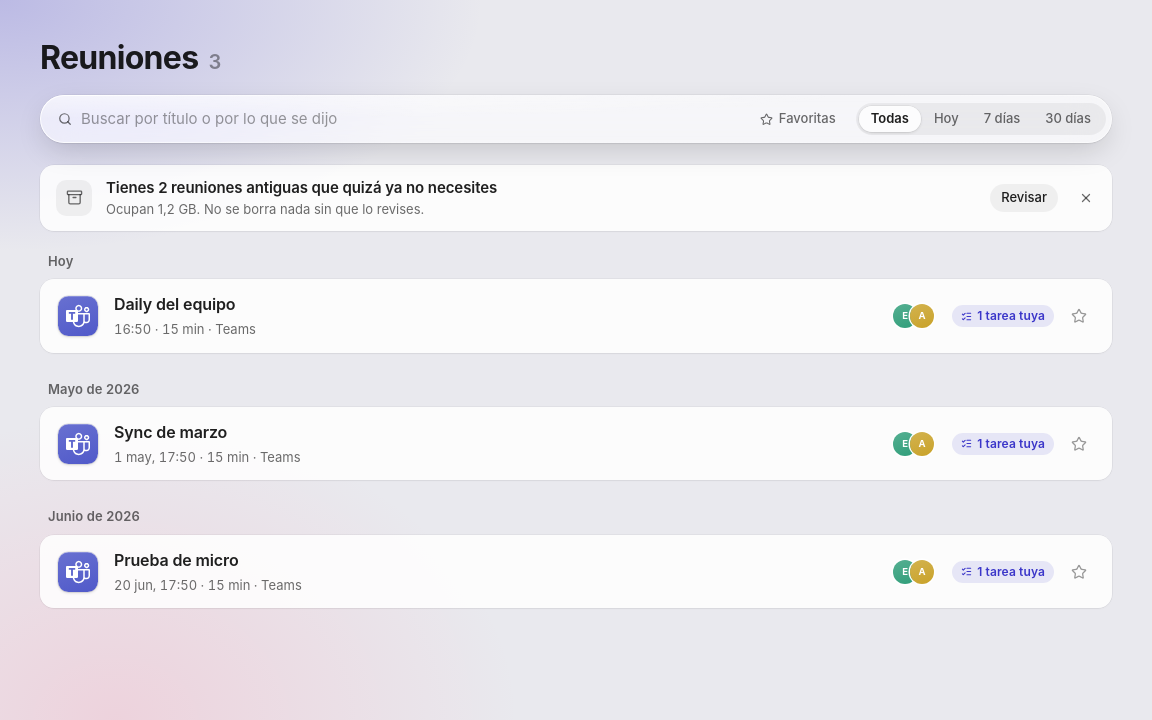
Test: sugerencia de limpieza de reuniones antiguas › sin nada seleccionado no se puede borrar
Click the button "Revisar": [1024, 198] box [990,184,1058,212]
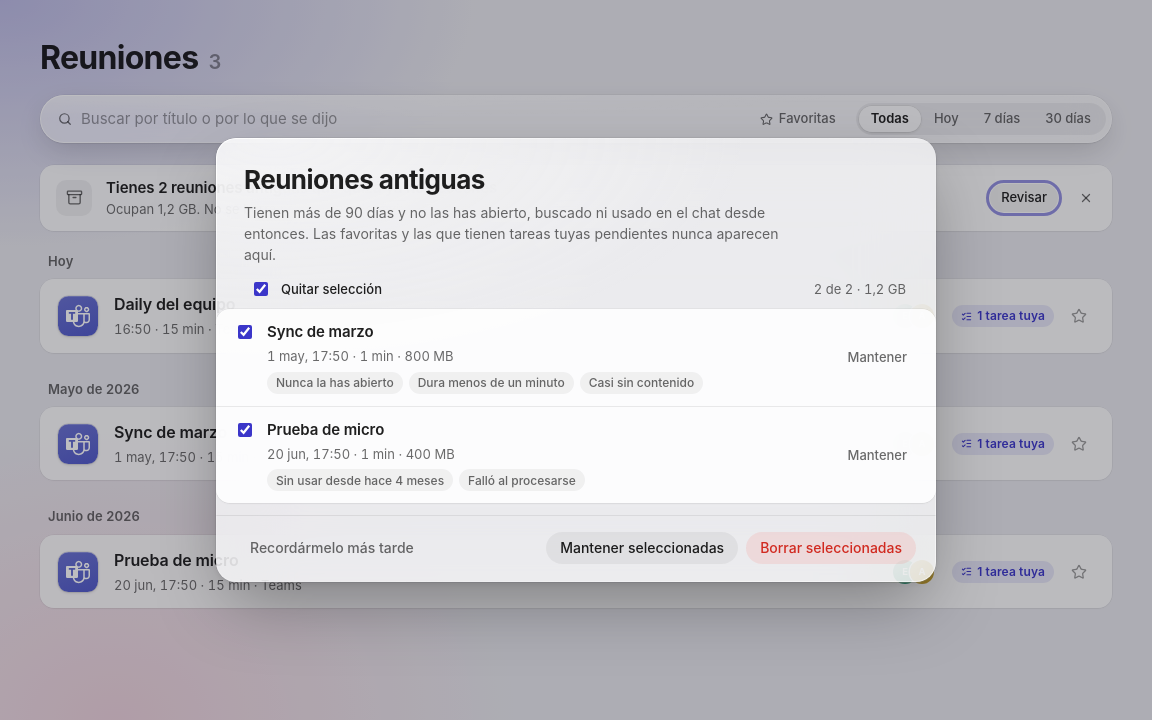
Click the checkbox labelled "Quitar selección": [261, 289] box [254,282,268,296]
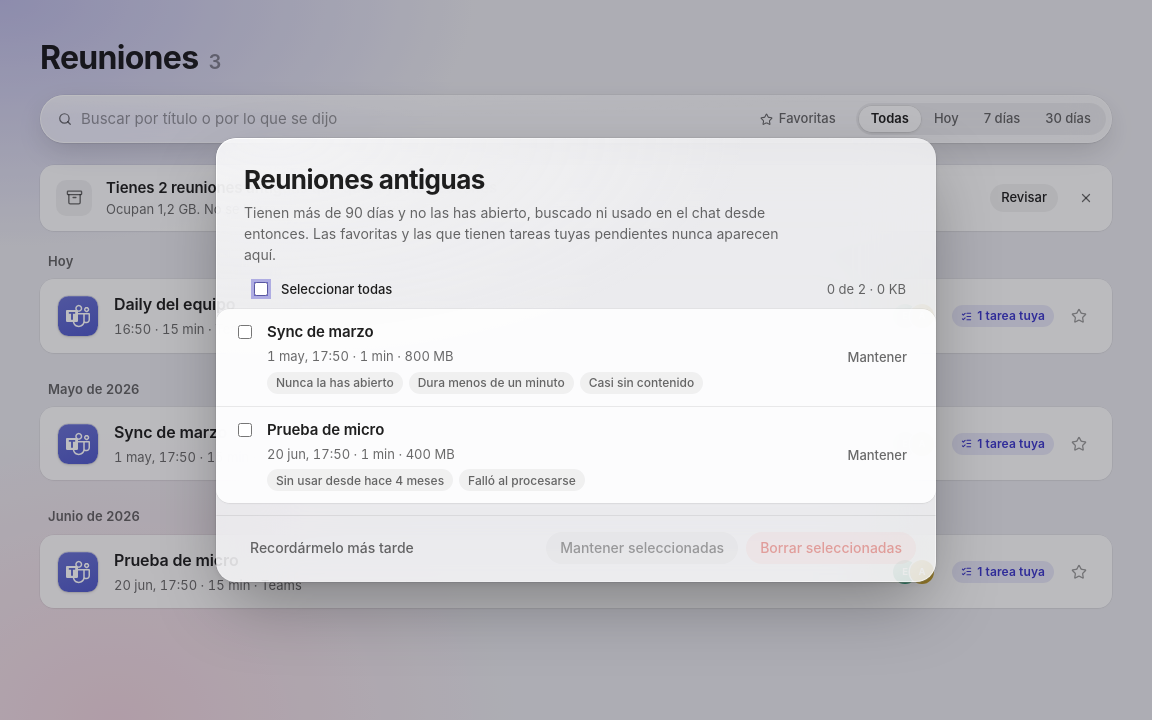
Check: the button "Borrar seleccionadas" is disabled, box [746,532,916,564]
Check: the button "Mantener seleccionadas" is disabled, box [546,532,738,564]
Click the checkbox labelled "Seleccionar todas": [261, 289] box [254,282,268,296]
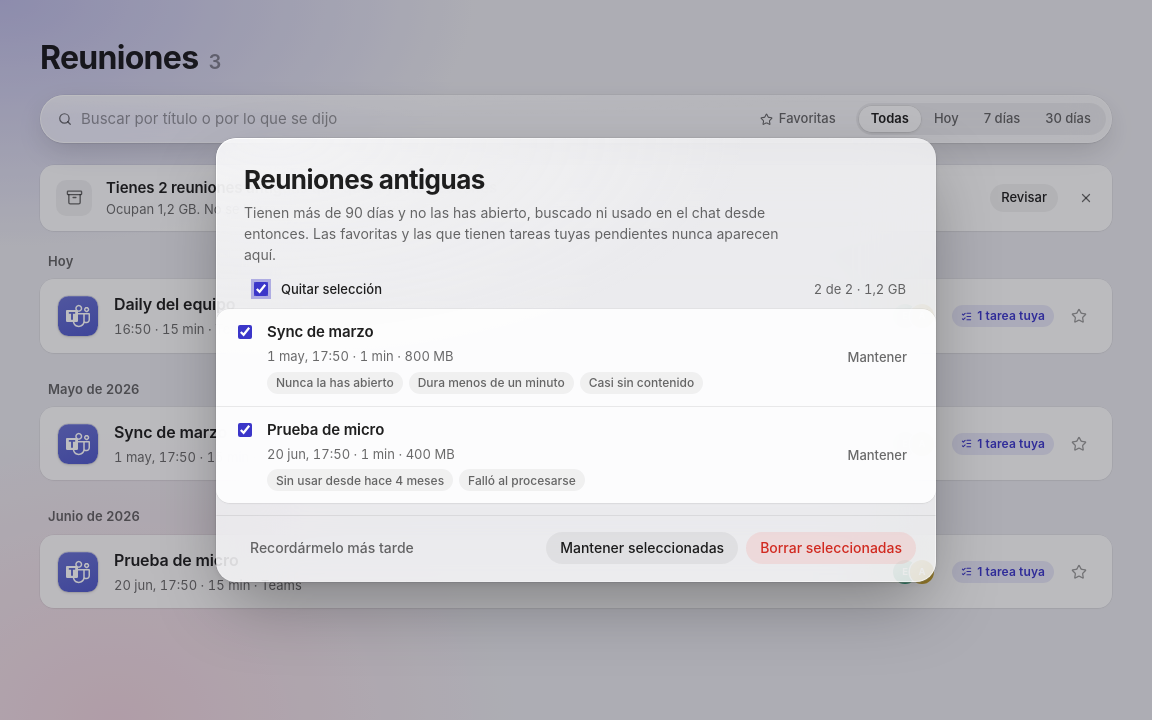
Check: the button "Borrar seleccionadas" is enabled, box [746,532,916,564]
